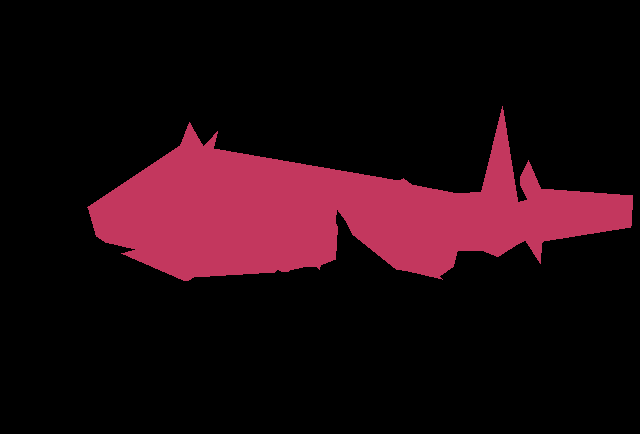Airplane: (87, 106, 632, 280)
